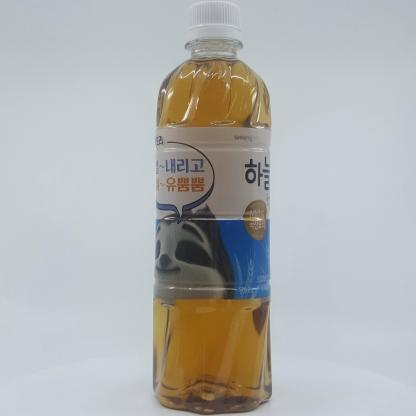------500ML: (152, 0, 272, 414)
